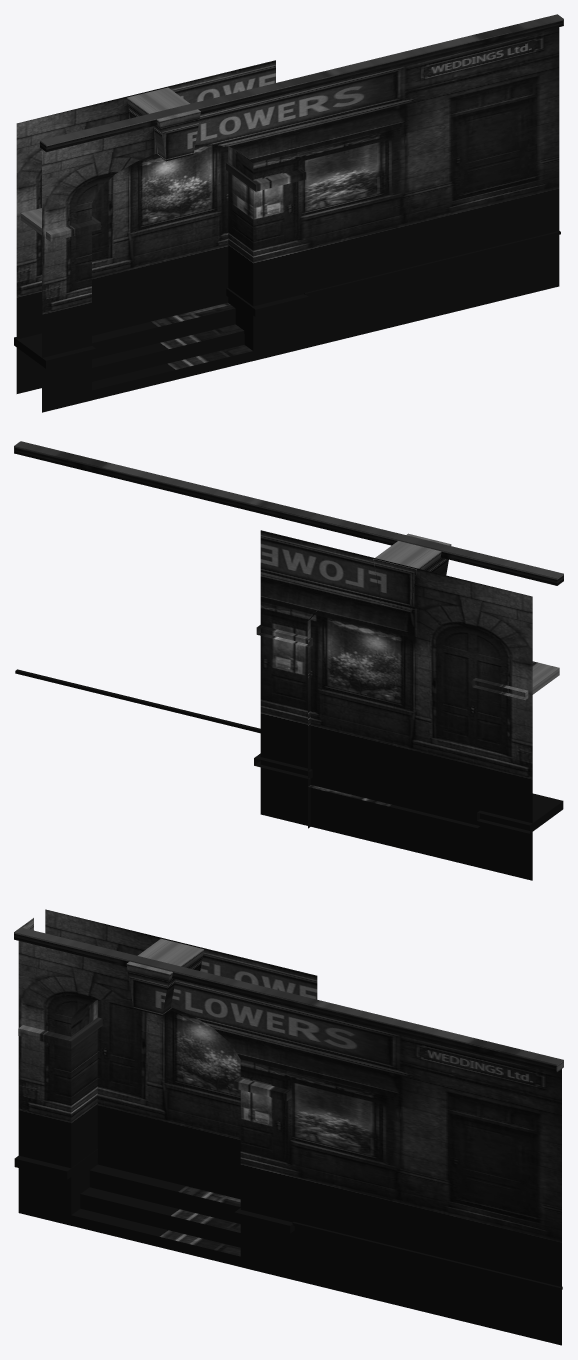
File: shop.obj
3 views of the same model, one above another, from view 1: azimuth 30°, elevation 25°; view 2: azimuth 150°, elevation 25°; view 3: azimuth 330°, elevation 25° (orthographic). The views are drawn at different scales.
Parts seen in each view (by area): view 1: group; view 2: group; view 3: group.
Boxes of the visible parts, box(x1,y1,x2,y2) form: group: box(14, 14, 563, 412); group: box(14, 441, 563, 880); group: box(14, 909, 563, 1345).
Bounding box in the file's own units: 10 × 5 × 1.19.
